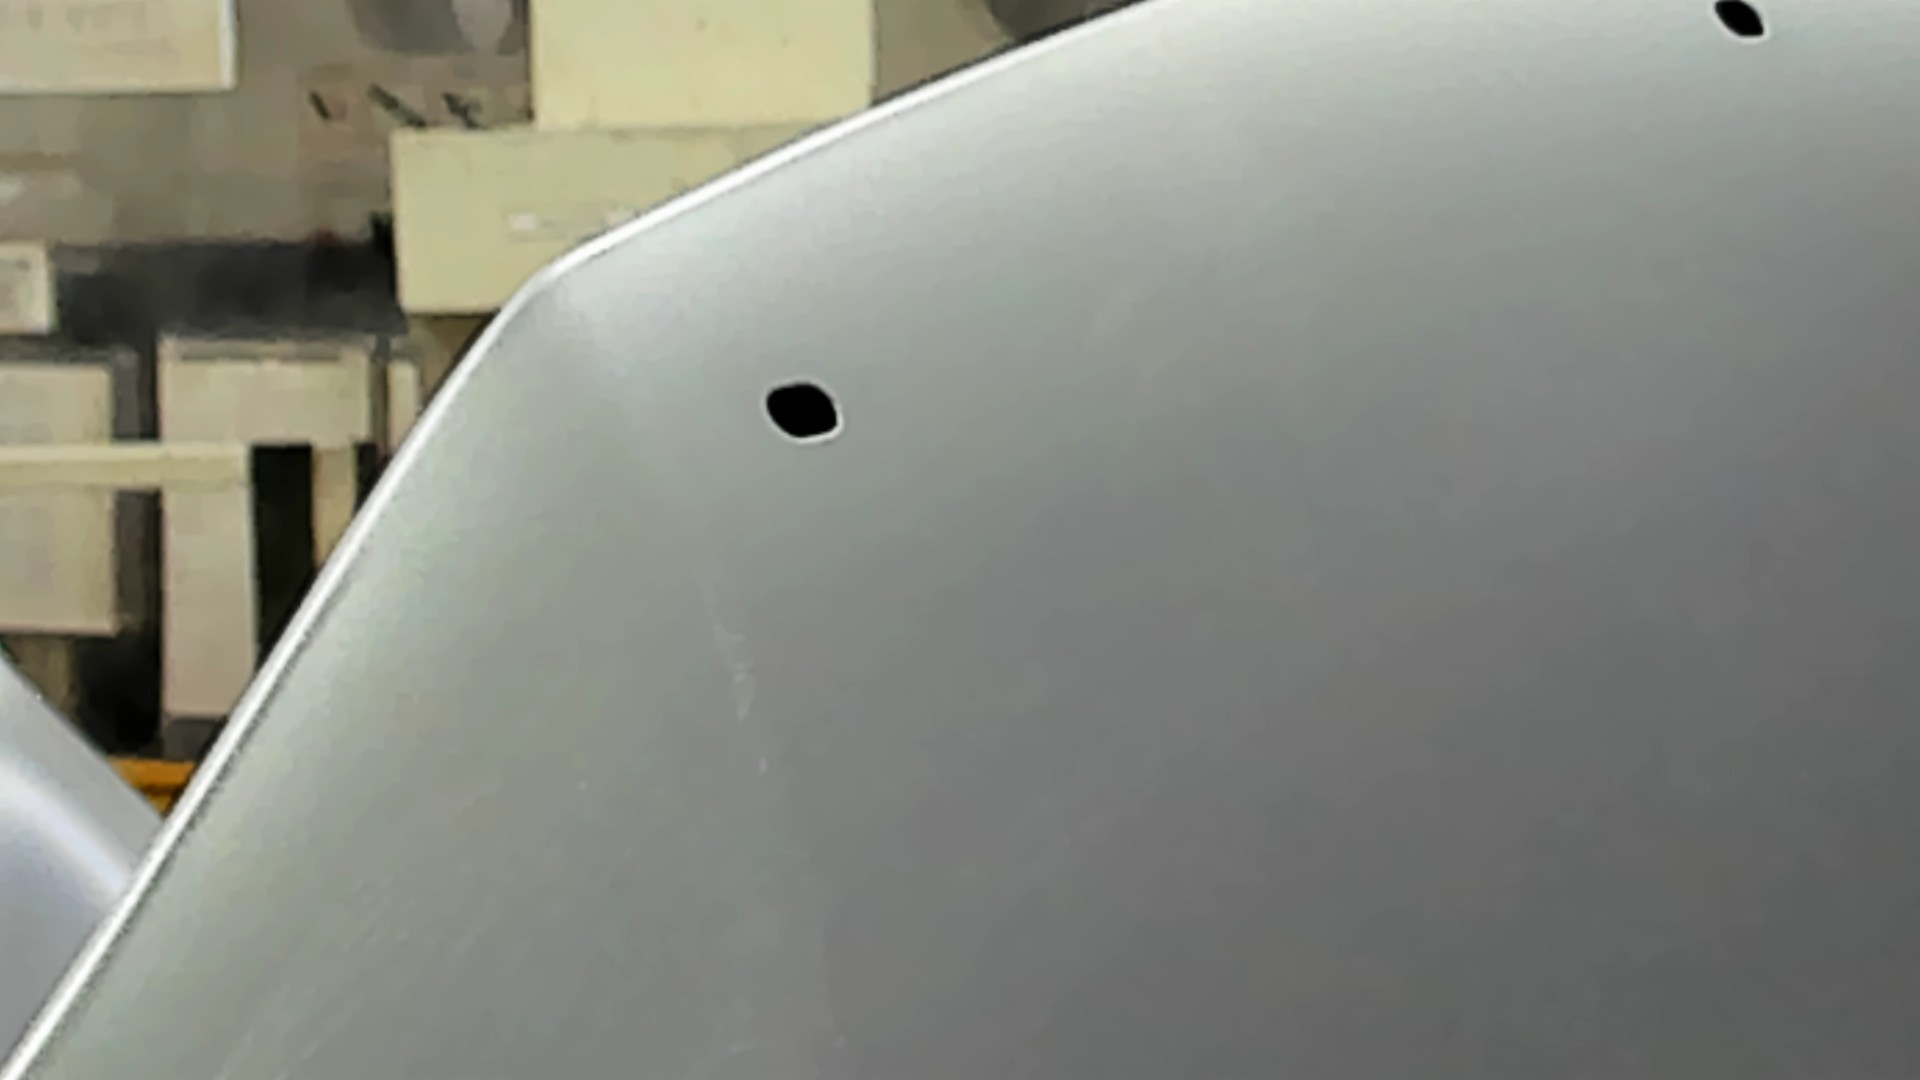amorfo: (757, 376, 847, 444), (1705, 1, 1778, 47)
